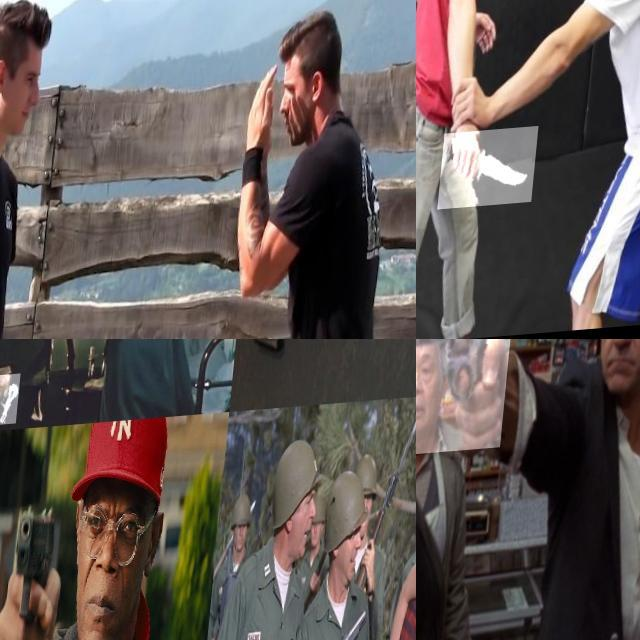-: (448, 132, 548, 214)
gun-knife-thesis - v11 Yolov5 augmented: (250, 339, 404, 463), (416, 339, 519, 459), (0, 501, 65, 640), (0, 374, 26, 427), (335, 614, 376, 640)
